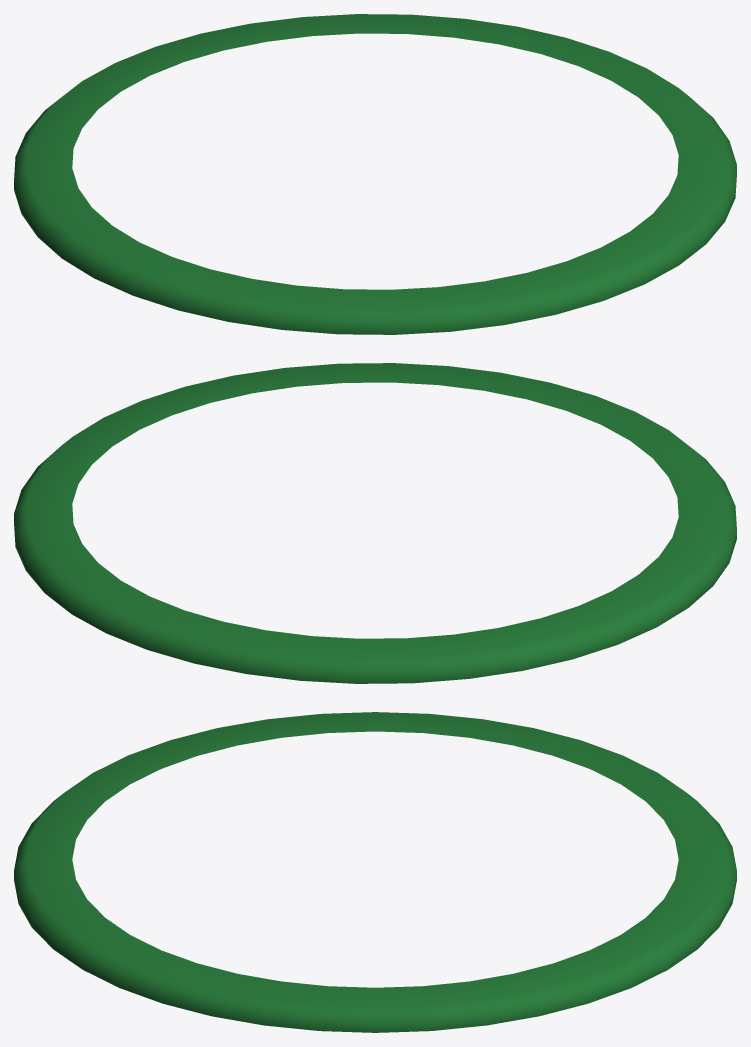
Rendered from EnergyCircle.fbx.
The picture shows the model from 3 angles, top to bottom: view 1: azimuth 30°, elevation 25°; view 2: azimuth 150°, elevation 25°; view 3: azimuth 270°, elevation 25°; orthographic projection.
Visible parts, largest first — view 1: polySurface148; view 2: polySurface148; view 3: polySurface148.
Boxes of the visible parts, x1,y1,x2,y2 form: polySurface148: (14,14,736,334); polySurface148: (14,363,736,683); polySurface148: (14,712,736,1032).
Size of the model in its own units: 31.93 by 1 by 31.93.
